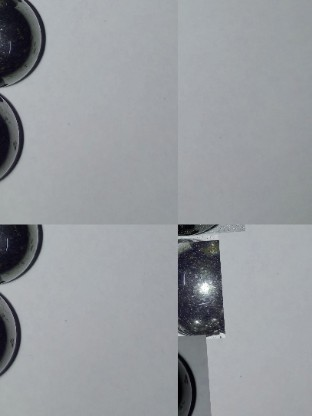ironball: (177, 236, 223, 343), (0, 0, 51, 86), (0, 222, 51, 286), (0, 83, 26, 183), (177, 335, 209, 415), (0, 293, 24, 381), (177, 224, 244, 238)
